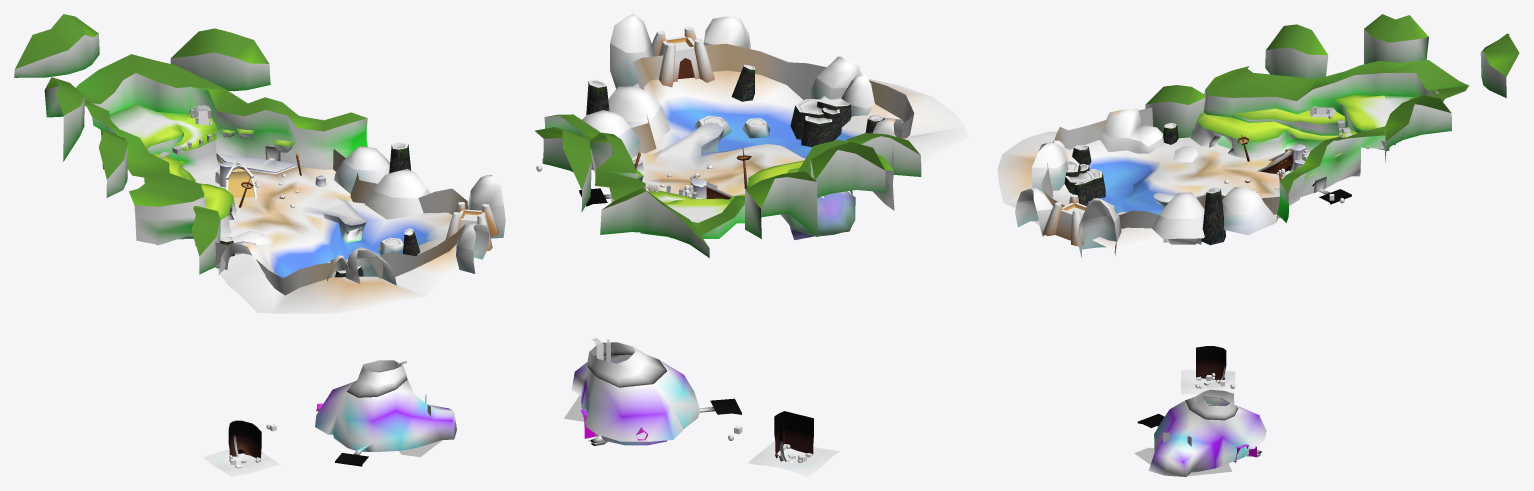
Rendered from TidalPool.fbx.
The picture shows the model from 3 angles, left to right: view 1: azimuth 30°, elevation 25°; view 2: azimuth 150°, elevation 25°; view 3: azimuth 270°, elevation 25°; orthographic projection. The views are drawn at different scales.
Parts seen in each view (by area): view 1: _Groundseparated, sand, grass, stone, ShipSlide; view 2: _Groundseparated, sand, stone, grass, FlowingWater, wood; view 3: _Groundseparated, sand, grass, stone, FlowingWater.
Part boxes in pixels (x1,y1,x2,y2): _Groundseparated: (14,34,467,458); sand: (192,153,505,476); grass: (15,14,367,256); stone: (157,105,503,466); ShipSlide: (226,164,256,198); _Groundseparated: (543,43,921,461); sand: (610,26,968,476); stone: (571,14,902,445); grass: (535,114,920,246); FlowingWater: (564,338,610,444); wood: (536,158,813,462); _Groundseparated: (1041,29,1506,462); sand: (997,131,1360,395); grass: (1146,14,1519,193); stone: (1017,106,1395,476); FlowingWater: (1134,400,1262,476).
Size of the model in its own units: 22174 by 24425 by 33212.
